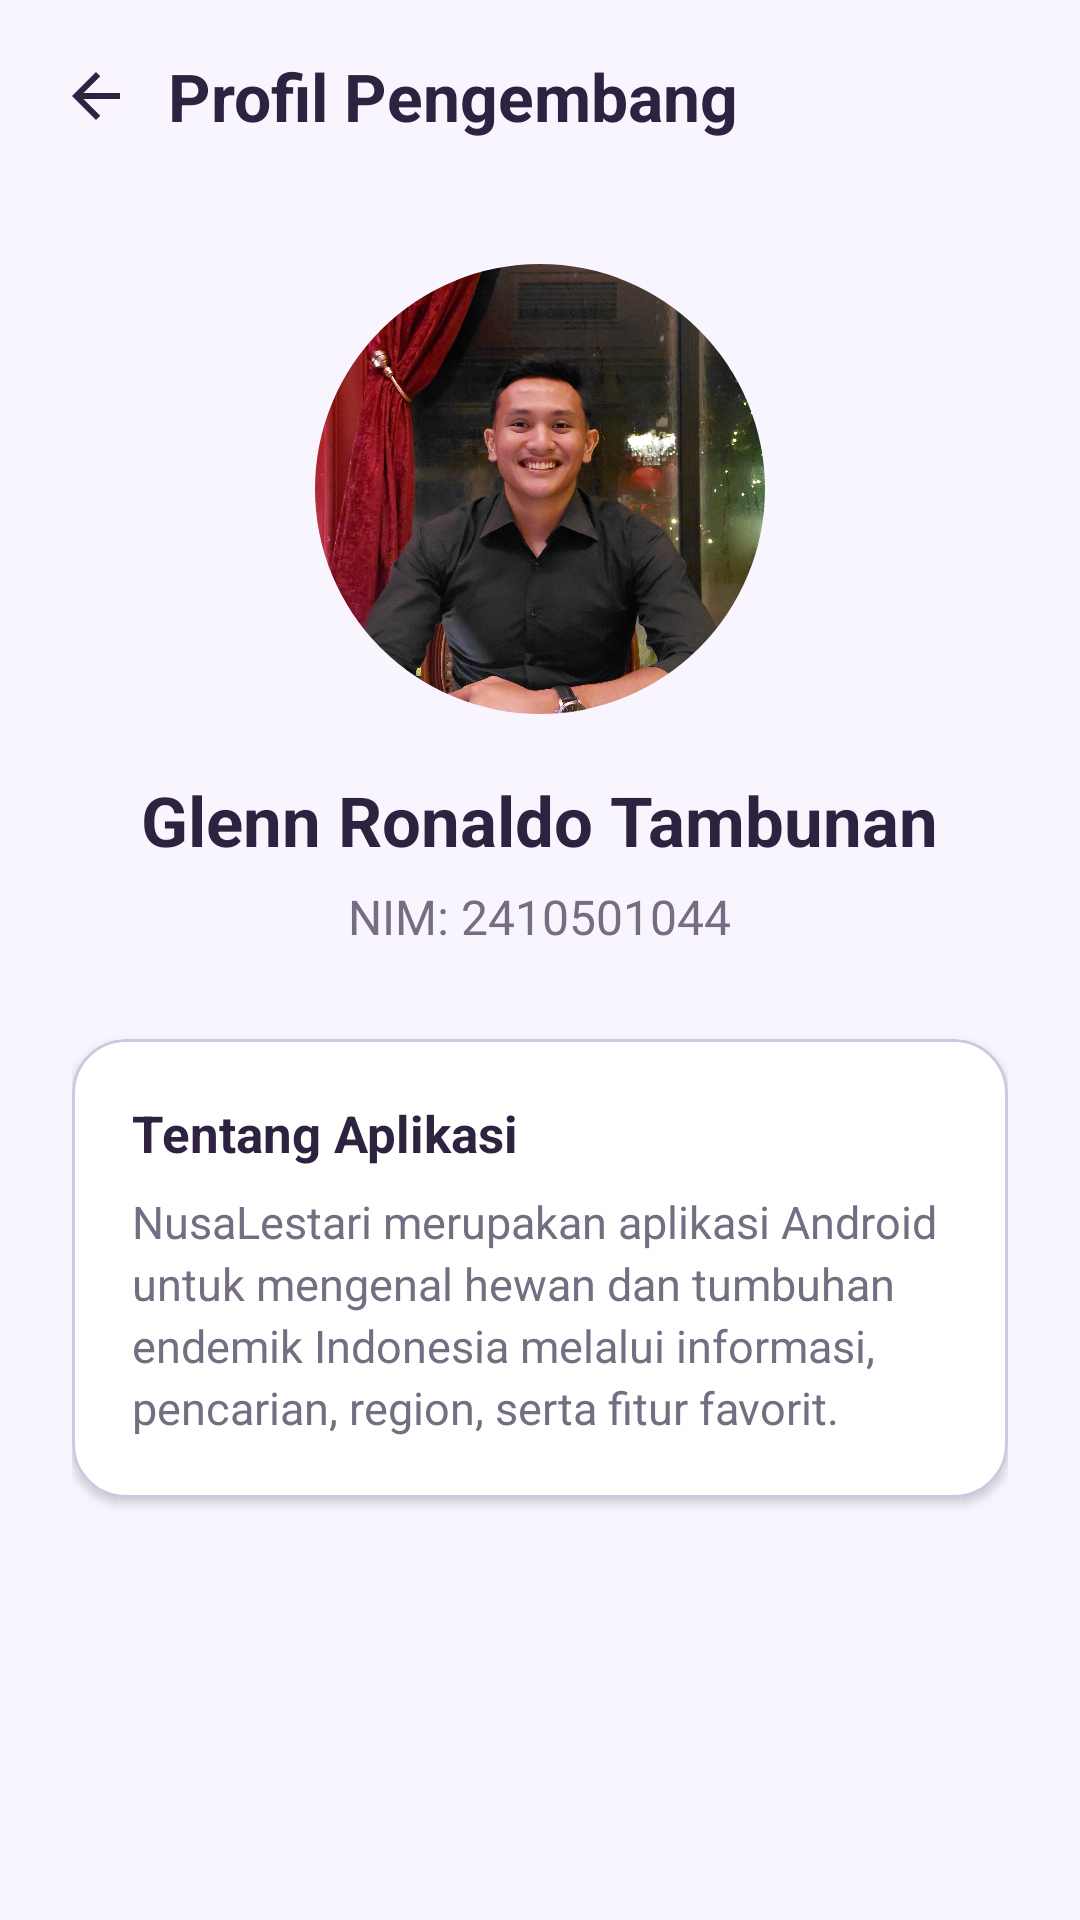

Icons on this 1080*1920 Android screen, each with the point to tap as [x,y]:
Kembali: [96,96]
